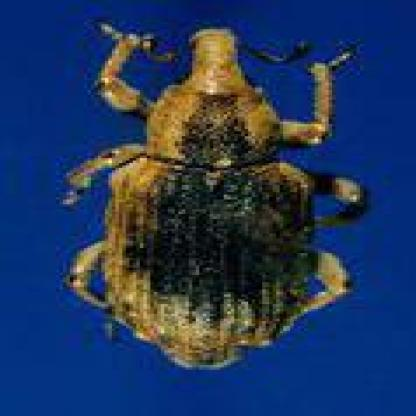rice-bug: (67, 26, 360, 369)
